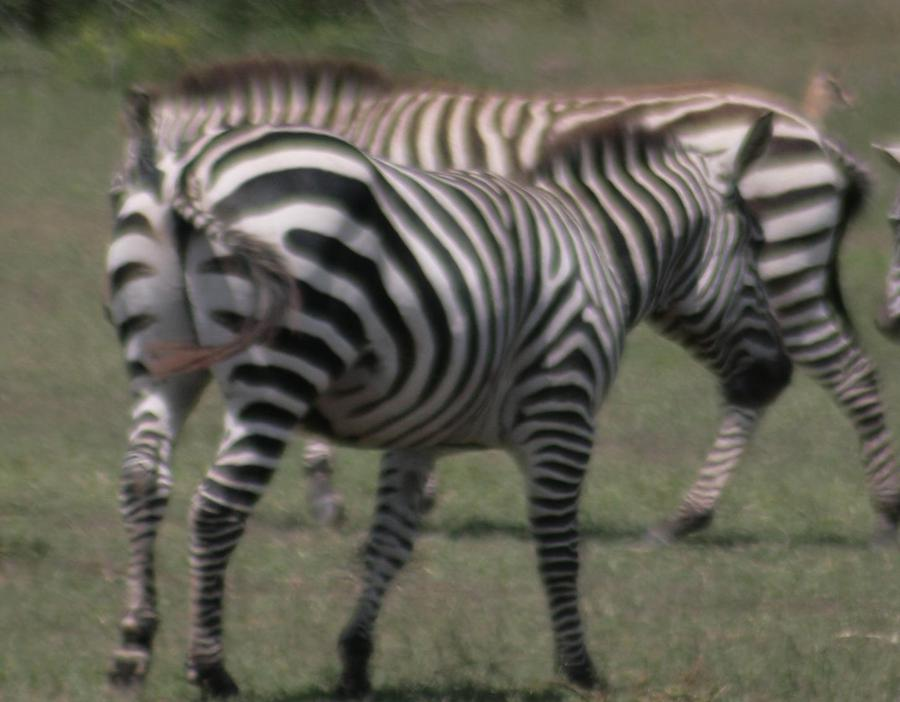zebra_plains: (176, 119, 662, 478)
